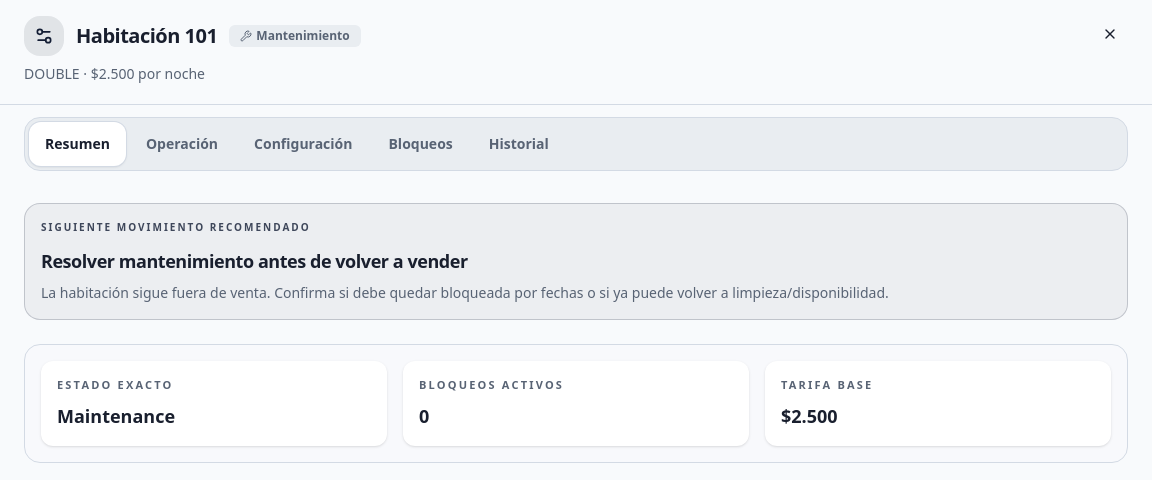
it: RoomDetailWorkspace › explains Maintenance without offering local transitions
Click the tab "Operación": click(182, 144) [130, 122, 234, 166]
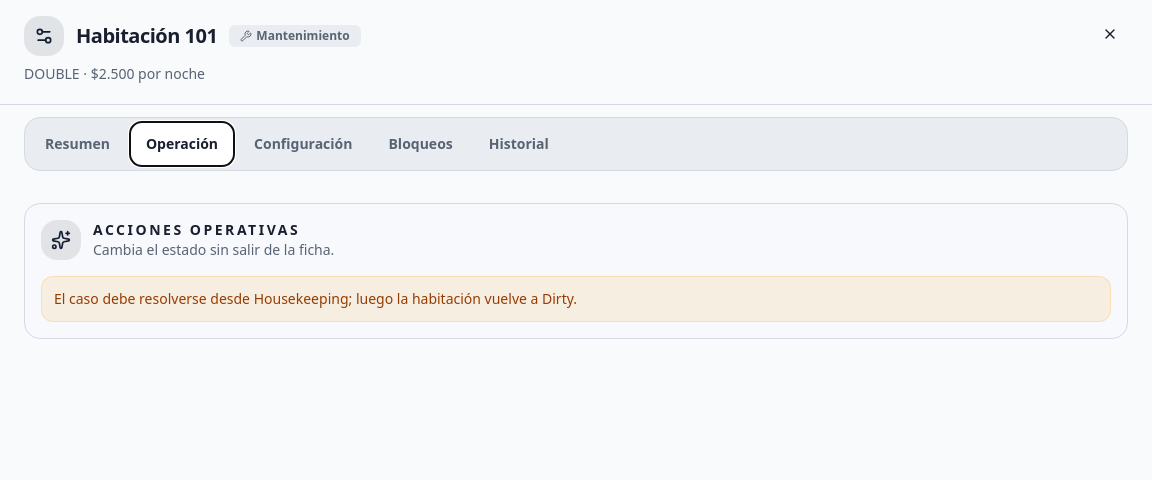
Expected: the text "resolverse desde Housekeeping" is shown, [54, 289, 577, 308]
Expected: the text "Limpieza" is gone
